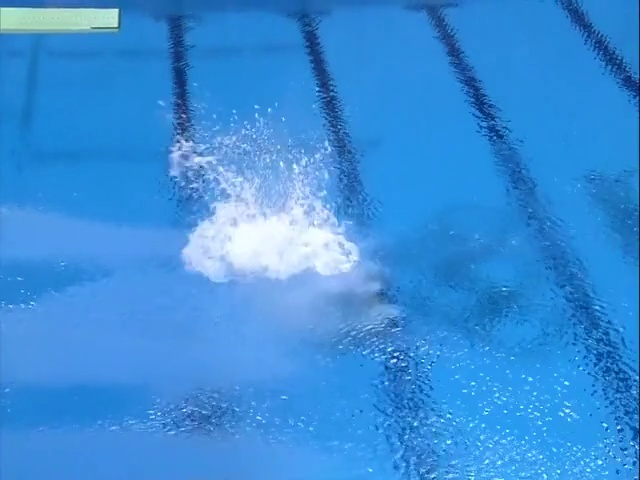splash: (157, 81, 375, 285)
